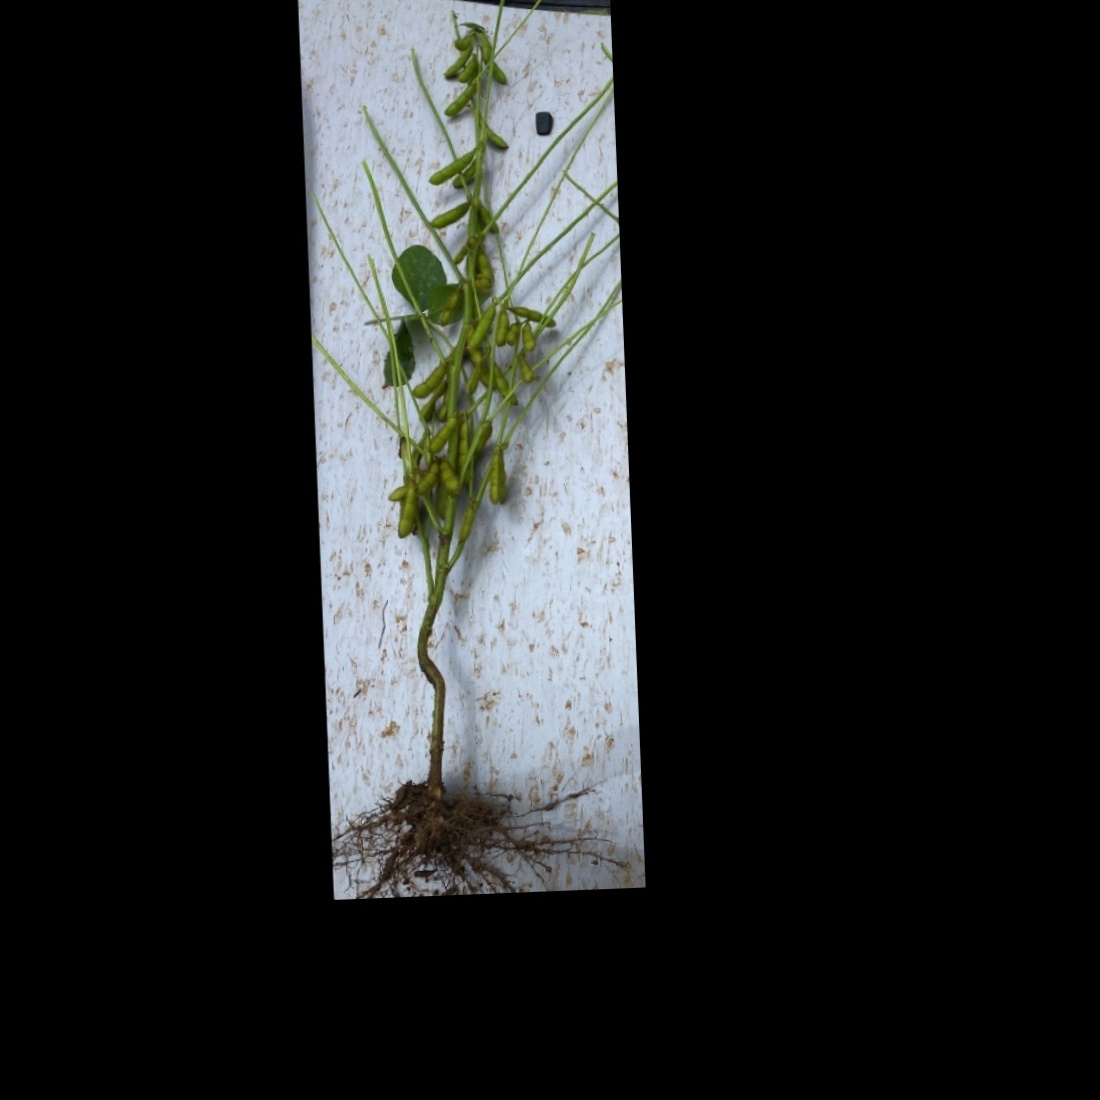pod: (395, 482, 419, 541), (466, 304, 498, 350), (505, 302, 556, 329), (426, 416, 460, 454), (440, 83, 476, 118), (491, 364, 519, 408), (428, 197, 469, 228), (477, 114, 510, 151), (485, 449, 500, 506), (414, 462, 440, 495), (497, 449, 510, 506), (439, 461, 461, 492), (457, 505, 474, 542), (494, 309, 510, 348), (519, 321, 537, 353), (456, 60, 478, 84)
soy: (310, 8, 593, 855)
